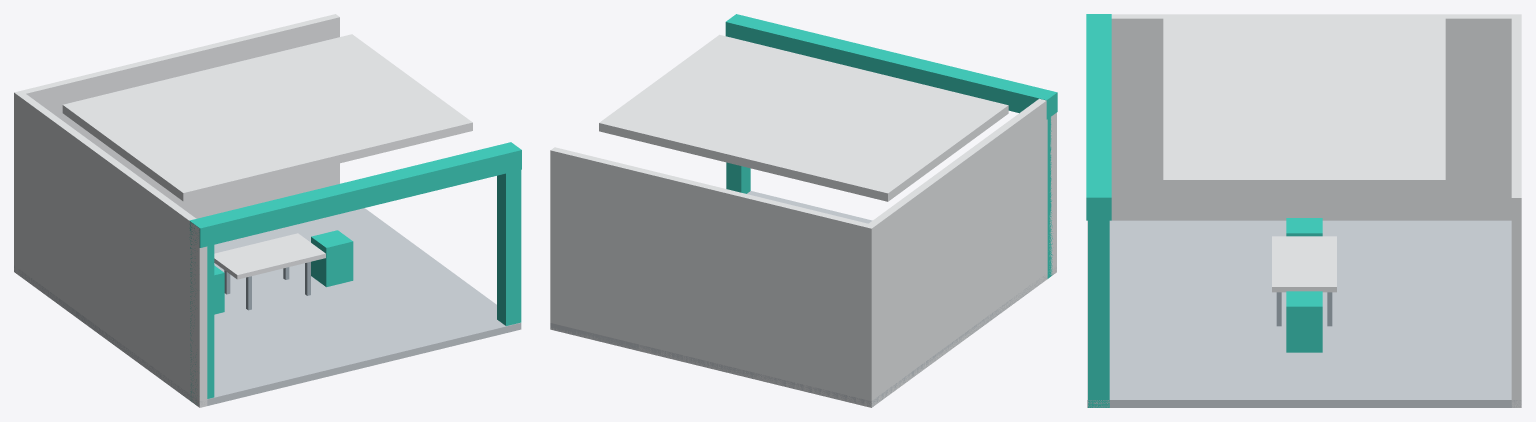
3 renders of one model, left to right at view 1: azimuth 30°, elevation 25°; view 2: azimuth 150°, elevation 25°; view 3: azimuth 270°, elevation 25°, orthographic. The views are drawn at different scales.
Parts seen in each view (by area): view 1: Exhibition Booth Concept; view 2: Exhibition Booth Concept; view 3: Exhibition Booth Concept.
Part boxes in pixels (bbox=[...]): Exhibition Booth Concept: bbox=[14, 14, 521, 407]; Exhibition Booth Concept: bbox=[550, 14, 1057, 407]; Exhibition Booth Concept: bbox=[1086, 14, 1521, 407].
Bounding box in the file's own units: 6 × 3.34 × 6.02.
